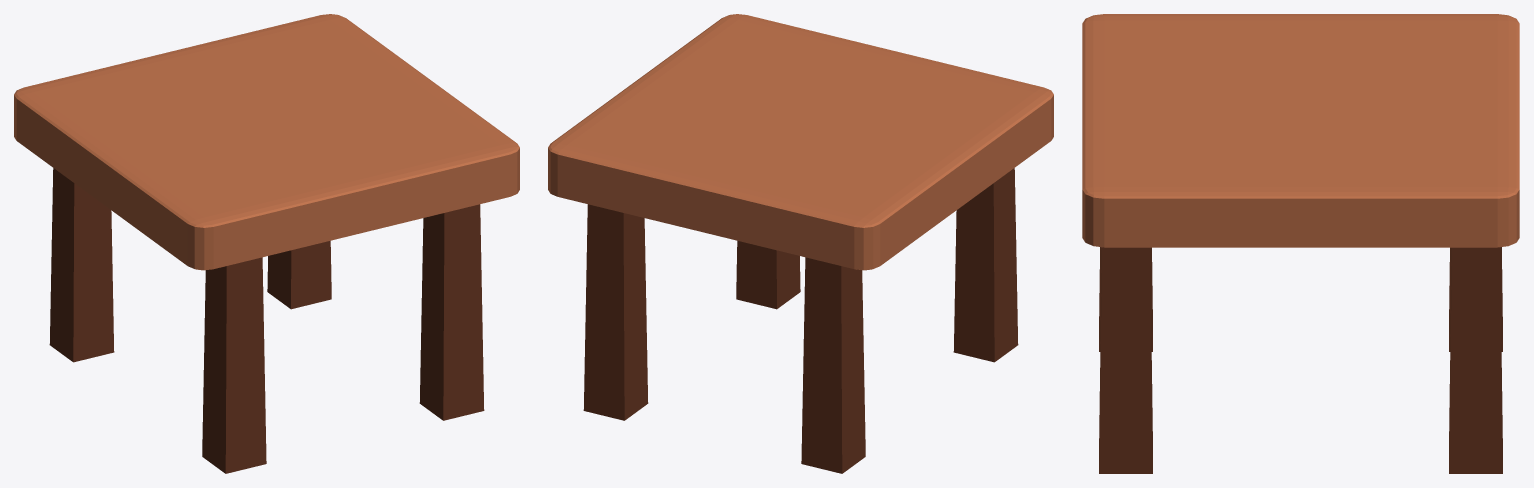
The model's file is base_1unit_table_asset.fbx.
3 renders of one model, left to right at view 1: azimuth 30°, elevation 25°; view 2: azimuth 150°, elevation 25°; view 3: azimuth 270°, elevation 25°, orthographic. The views are drawn at different scales.
Visible parts, largest first — view 1: Cube.021; view 2: Cube.021; view 3: Cube.021.
Boxes of the visible parts, x1,y1,x2,y2 form: Cube.021: [14, 14, 519, 473]; Cube.021: [548, 14, 1053, 473]; Cube.021: [1082, 14, 1519, 473].
Bounding box in the file's own units: 97.96 × 73.66 × 97.96.
Materials: 2 (2 with a texture image).
